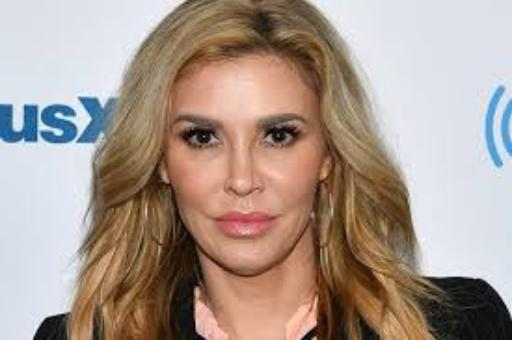left_eye: (262, 128, 301, 148)
left_lip_corner: (269, 214, 286, 223)
right_eye: (180, 128, 223, 148)
right_lip_corner: (206, 216, 225, 226)
